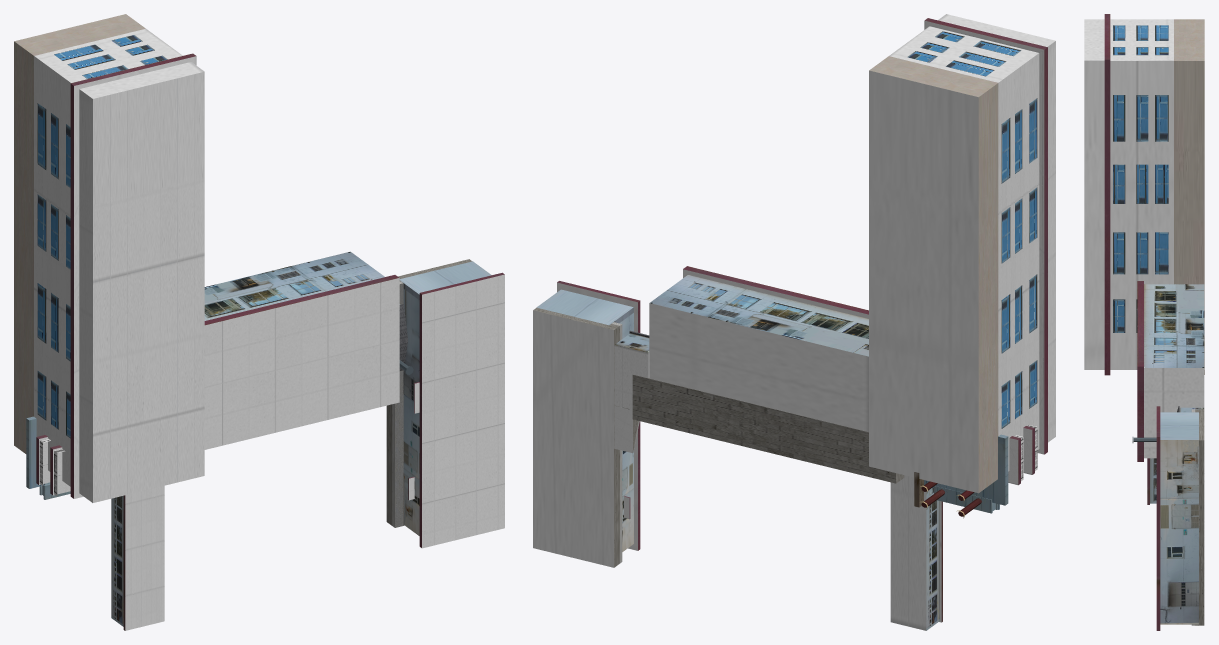
Rendered from sgy_q5_002.gltf.
The picture shows the model from 3 angles, left to right: view 1: azimuth 30°, elevation 25°; view 2: azimuth 150°, elevation 25°; view 3: azimuth 270°, elevation 25°; orthographic projection. The views are drawn at different scales.
Parts seen in each view (by area): view 1: polySurface112; view 2: polySurface112; view 3: polySurface112.
Part boxes in pixels (left/top/right/bottom): polySurface112: left=14, top=14, right=504, bottom=630; polySurface112: left=533, top=14, right=1055, bottom=630; polySurface112: left=1084, top=14, right=1204, bottom=630.
Bounding box in the file's own units: 110 × 131 × 32.11.
Materials: 25 (25 with a texture image).
